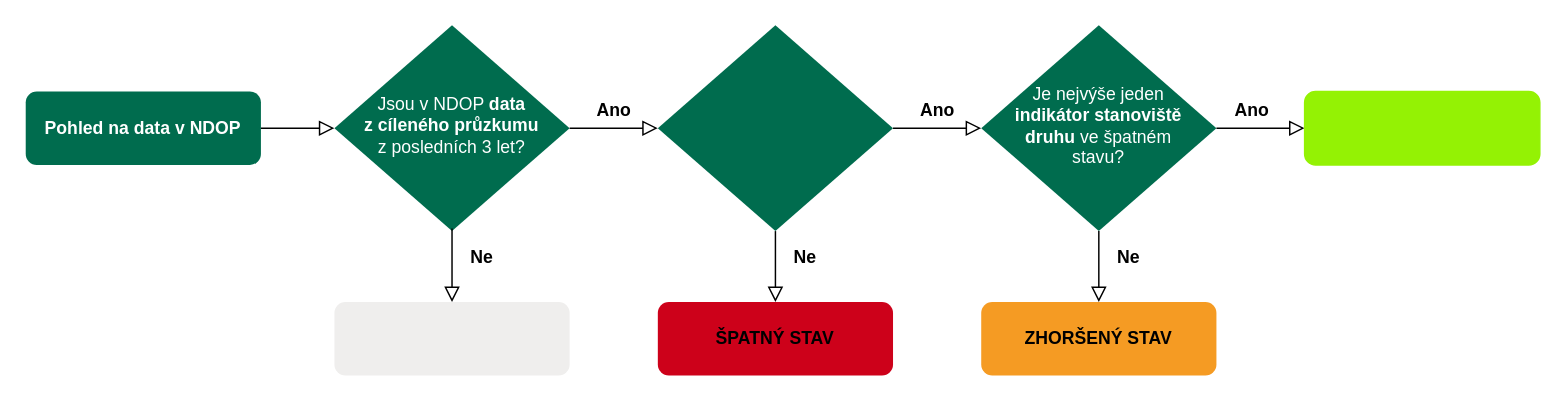
This 1566x401 diagram has some shape labels left out. Here are the shapes that lost their labels. From the top down, the centre of each, then its label:
the point at 774,127: Jsou všechny populační indikátory v dobrém stavu?
the point at 1421,127: DOBRÝ STAV
the point at 451,338: NEZNÁMÝ STAV
